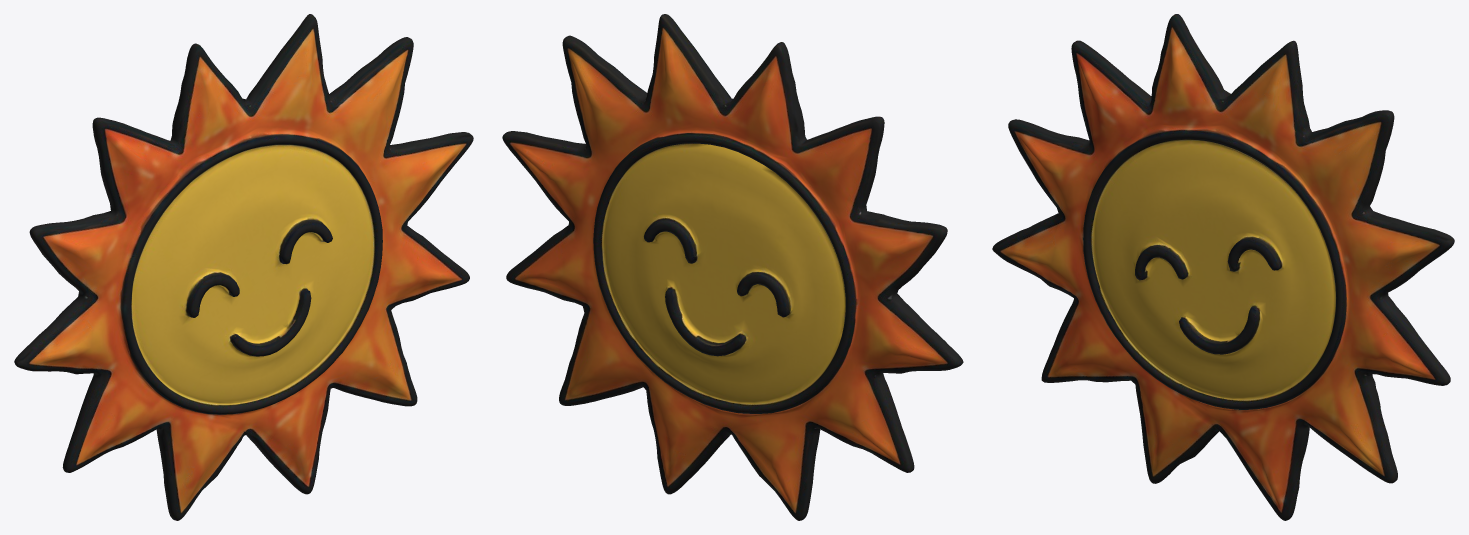
File: sun.glb
3 views of the same model, side by side, from view 1: azimuth 30°, elevation 25°; view 2: azimuth 150°, elevation 25°; view 3: azimuth 330°, elevation 25° (orthographic).
Visible parts, largest first — view 1: tripo_node_0c0a885c-074b-4f39-9f2d-9c0671533aa2; view 2: tripo_node_0c0a885c-074b-4f39-9f2d-9c0671533aa2; view 3: tripo_node_0c0a885c-074b-4f39-9f2d-9c0671533aa2.
Part boxes in pixels (box(x1,y1,x2,y2)): tripo_node_0c0a885c-074b-4f39-9f2d-9c0671533aa2: box(14, 14, 473, 520); tripo_node_0c0a885c-074b-4f39-9f2d-9c0671533aa2: box(502, 14, 963, 520); tripo_node_0c0a885c-074b-4f39-9f2d-9c0671533aa2: box(992, 14, 1454, 520).
Size of the model in its own units: 0.9789 by 0.9763 by 0.1361.
Materials: 1 (1 with a texture image).
